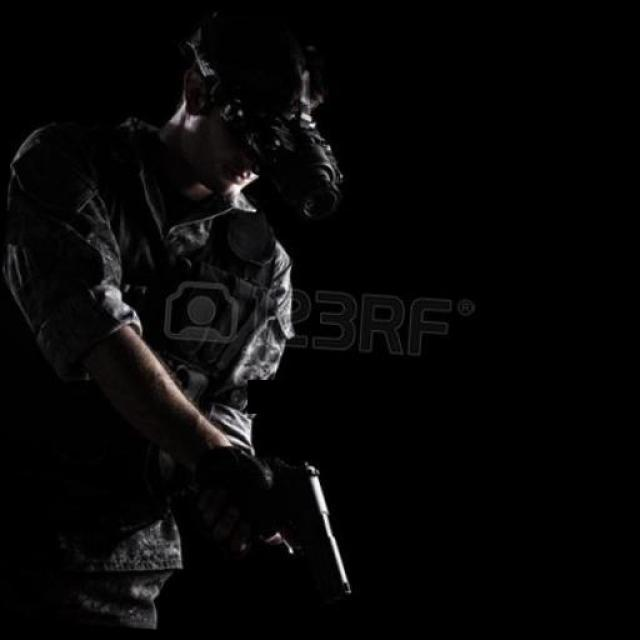gun: (221, 440, 384, 602)
